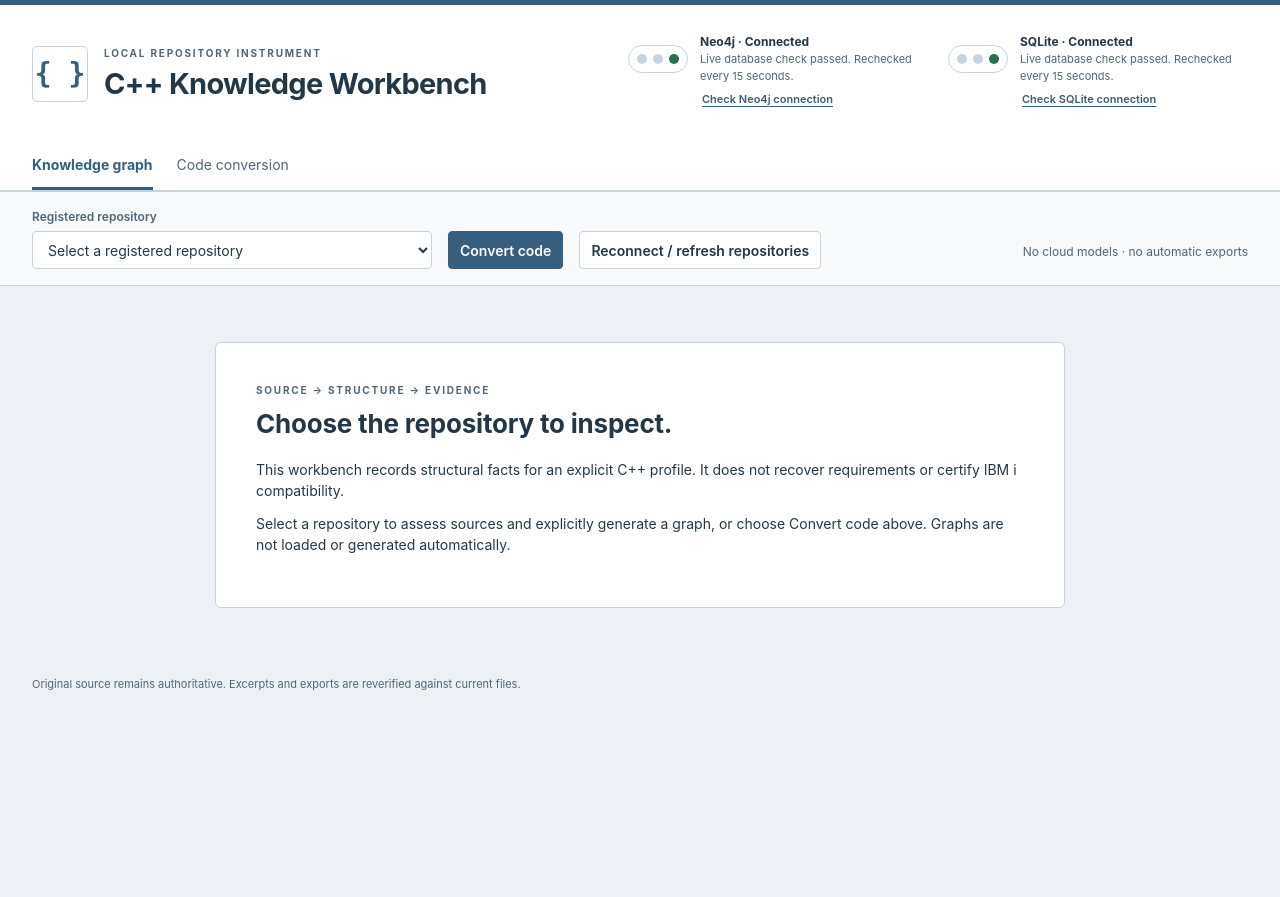
Test: repository workflow › keeps the selected repository when opening conversion from its initial workspace
Select "Second repo · registered" in the dropdown labelled "Registered repository" at x=232, y=250, box [32,231,432,269]
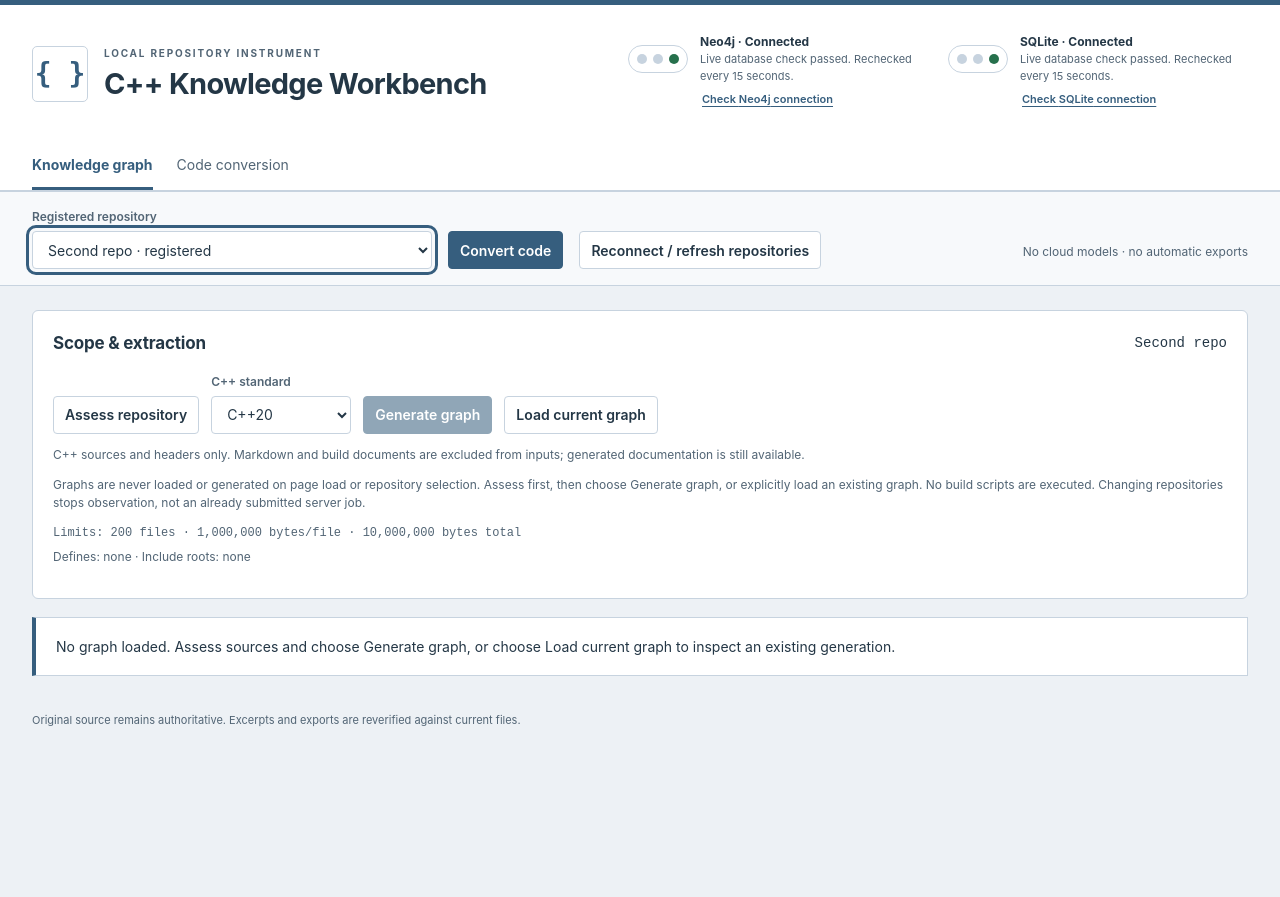
Click the button "Convert code" at x=506, y=250, box [448,231,563,269]
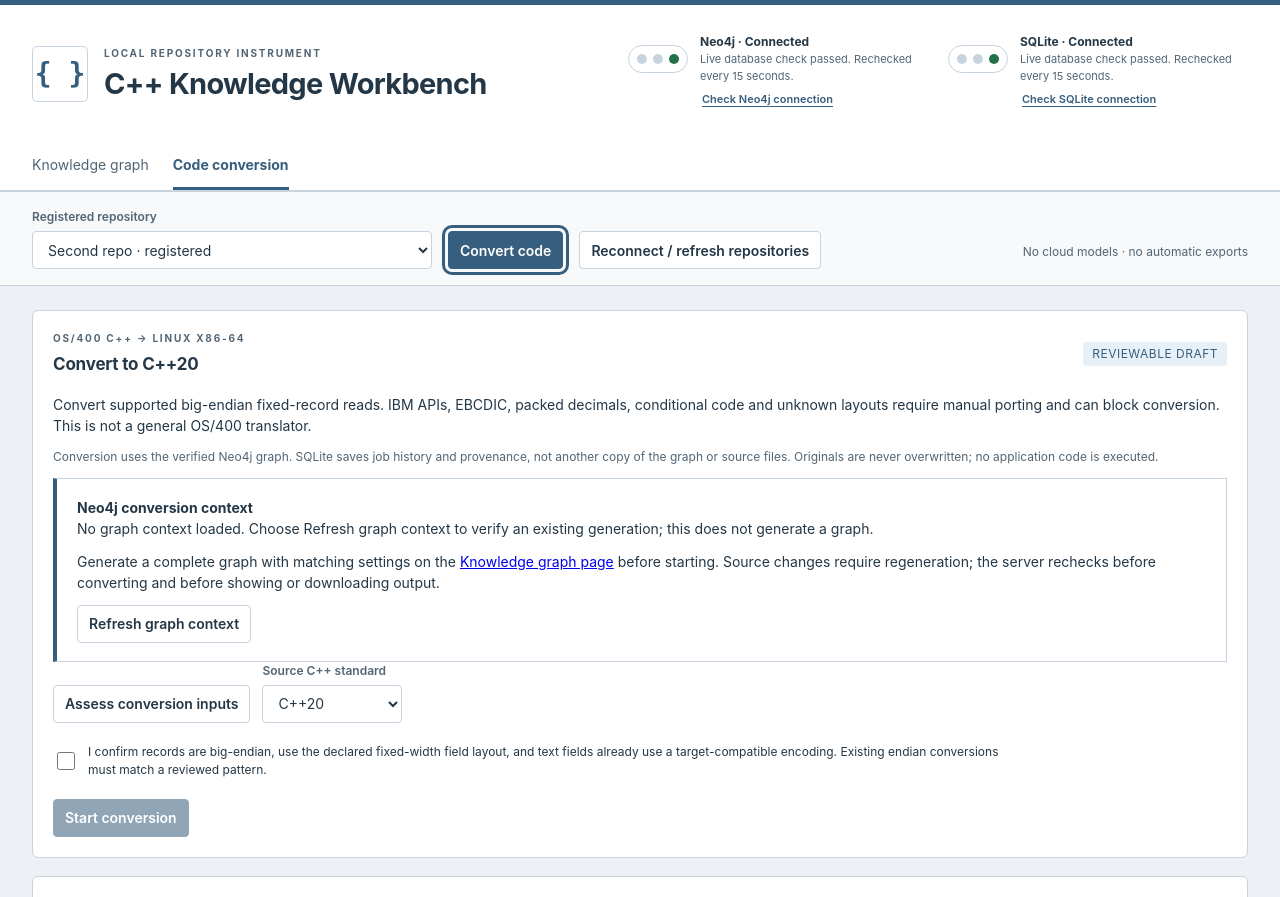
Expected: the heading "Convert to C++20" is shown, [53,354,199,374]
